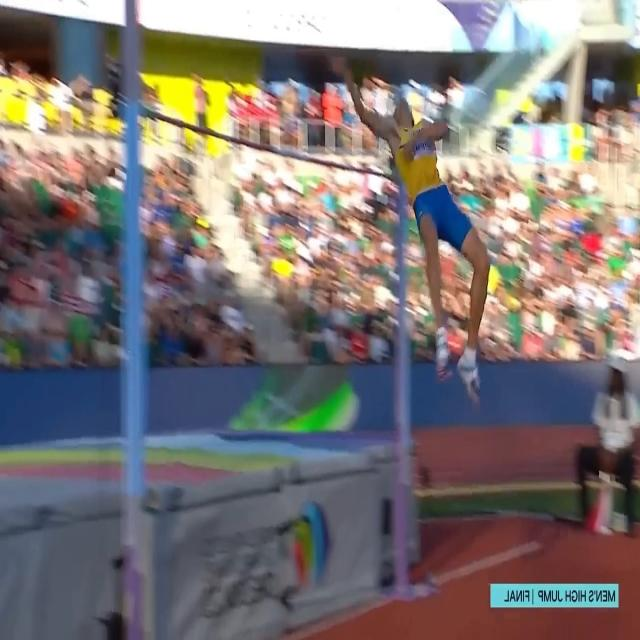jump: (330, 50, 492, 405)
